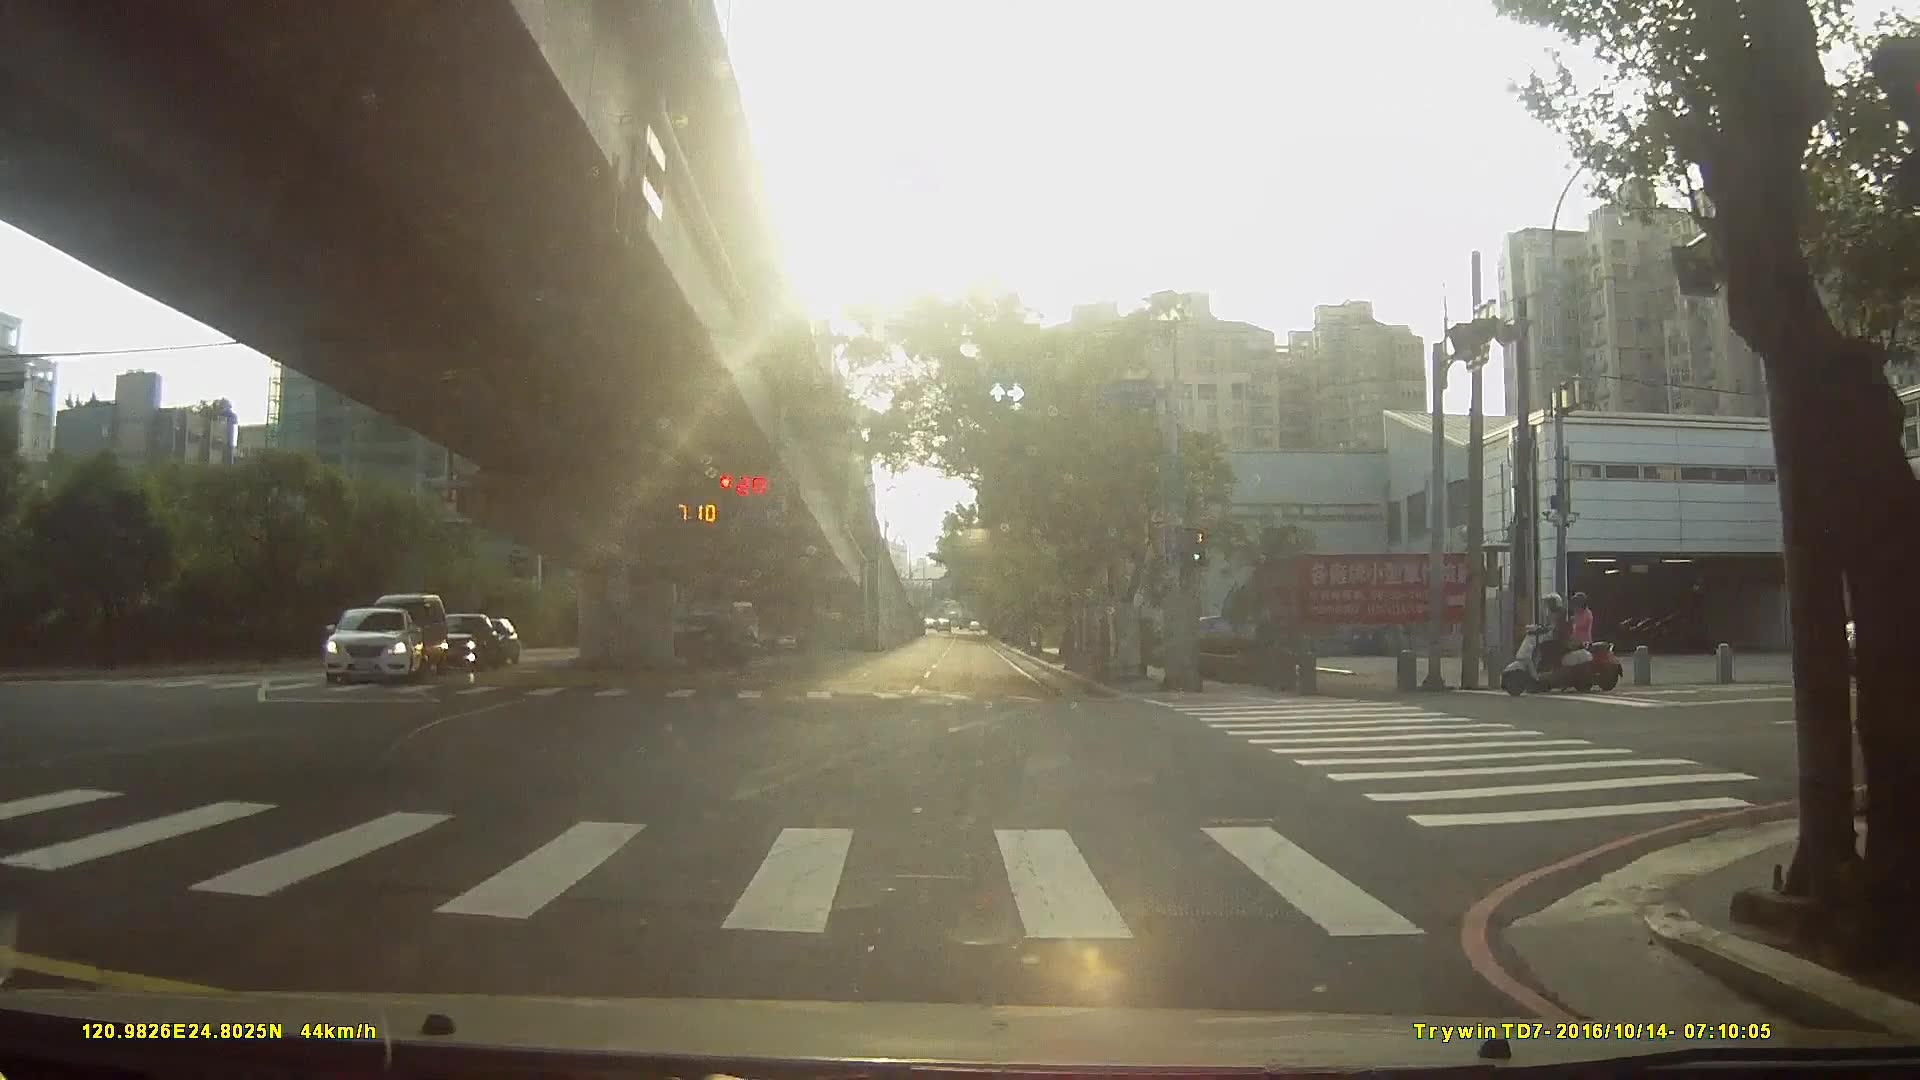rider: (1499, 593, 1595, 696)
vehicle: (314, 609, 417, 689), (365, 594, 444, 680), (643, 613, 756, 673), (1840, 602, 1920, 685), (420, 612, 499, 671)
